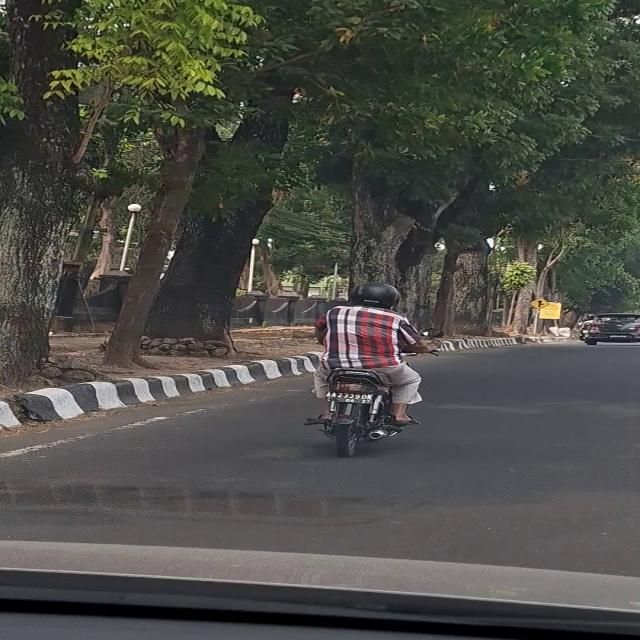WithHelmet: (310, 282, 435, 425)
